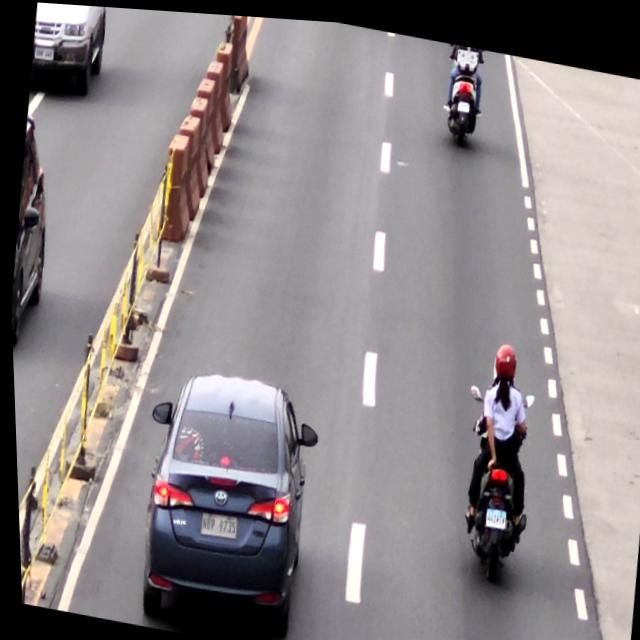Car: (121, 356, 324, 640)
License-Plate: (195, 509, 234, 538), (480, 500, 503, 523), (455, 92, 469, 106)
Motorcycle: (445, 370, 536, 578), (436, 36, 486, 140)
